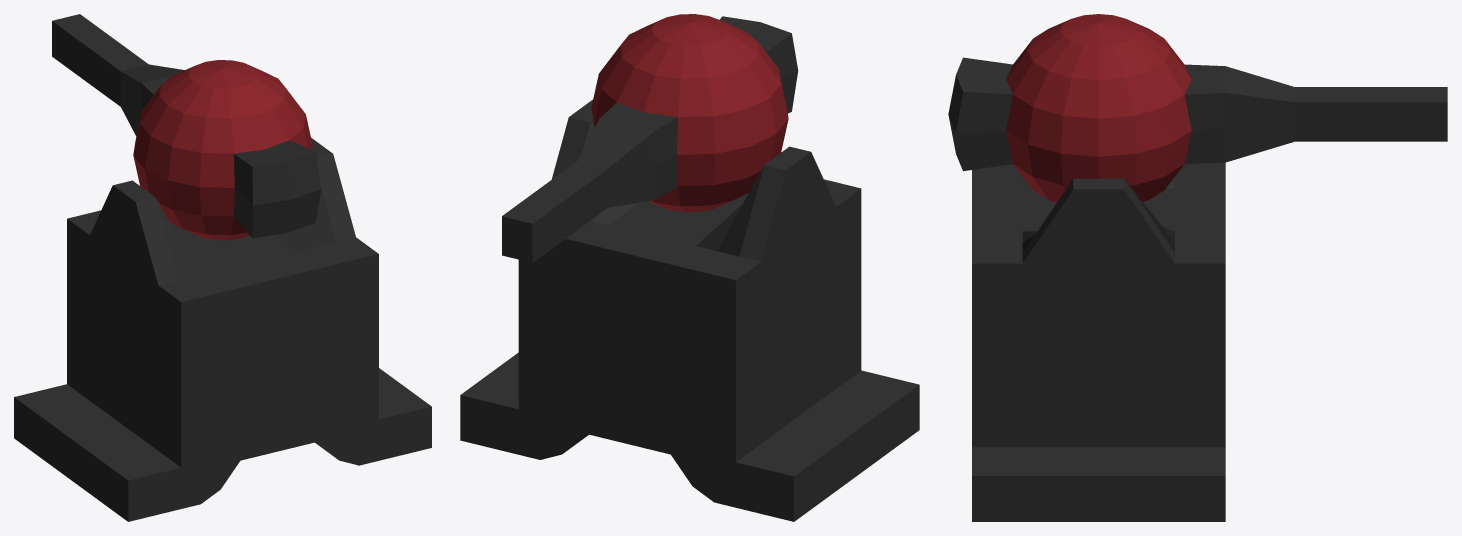
The model's file is turret.glb.
3 views of the same model, side by side, from view 1: azimuth 30°, elevation 25°; view 2: azimuth 150°, elevation 25°; view 3: azimuth 270°, elevation 25° (orthographic). The views are drawn at different scales.
Parts seen in each view (by area): view 1: stand, barrel; view 2: stand, barrel; view 3: stand, barrel.
Boxes of the visible parts, x1,y1,x2,y2 form: stand: [14, 138, 431, 521]; barrel: [52, 14, 321, 240]; stand: [460, 99, 919, 521]; barrel: [502, 14, 798, 262]; stand: [972, 162, 1225, 521]; barrel: [948, 14, 1447, 203].
Bounding box in the file's own units: 12.28 × 14.5 × 15.75.
